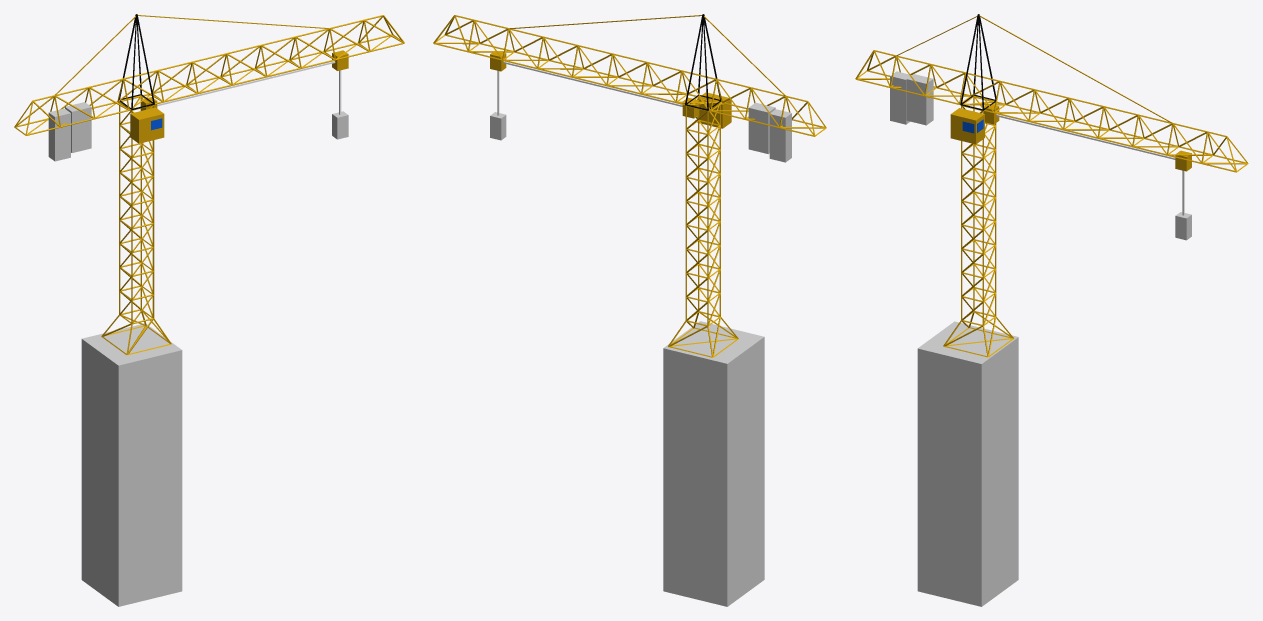
The model's file is crane-001.fbx.
The picture shows the model from 3 angles, left to right: view 1: azimuth 30°, elevation 25°; view 2: azimuth 150°, elevation 25°; view 3: azimuth 330°, elevation 25°; orthographic projection.
Parts seen in each view (by area): view 1: crane-001; view 2: crane-001; view 3: crane-001.
Boxes of the visible parts, x1,y1,x2,y2 form: crane-001: [14, 14, 404, 606]; crane-001: [433, 14, 826, 606]; crane-001: [855, 14, 1248, 606].
Size of the model in its own units: 53575 by 76505 by 9000.
